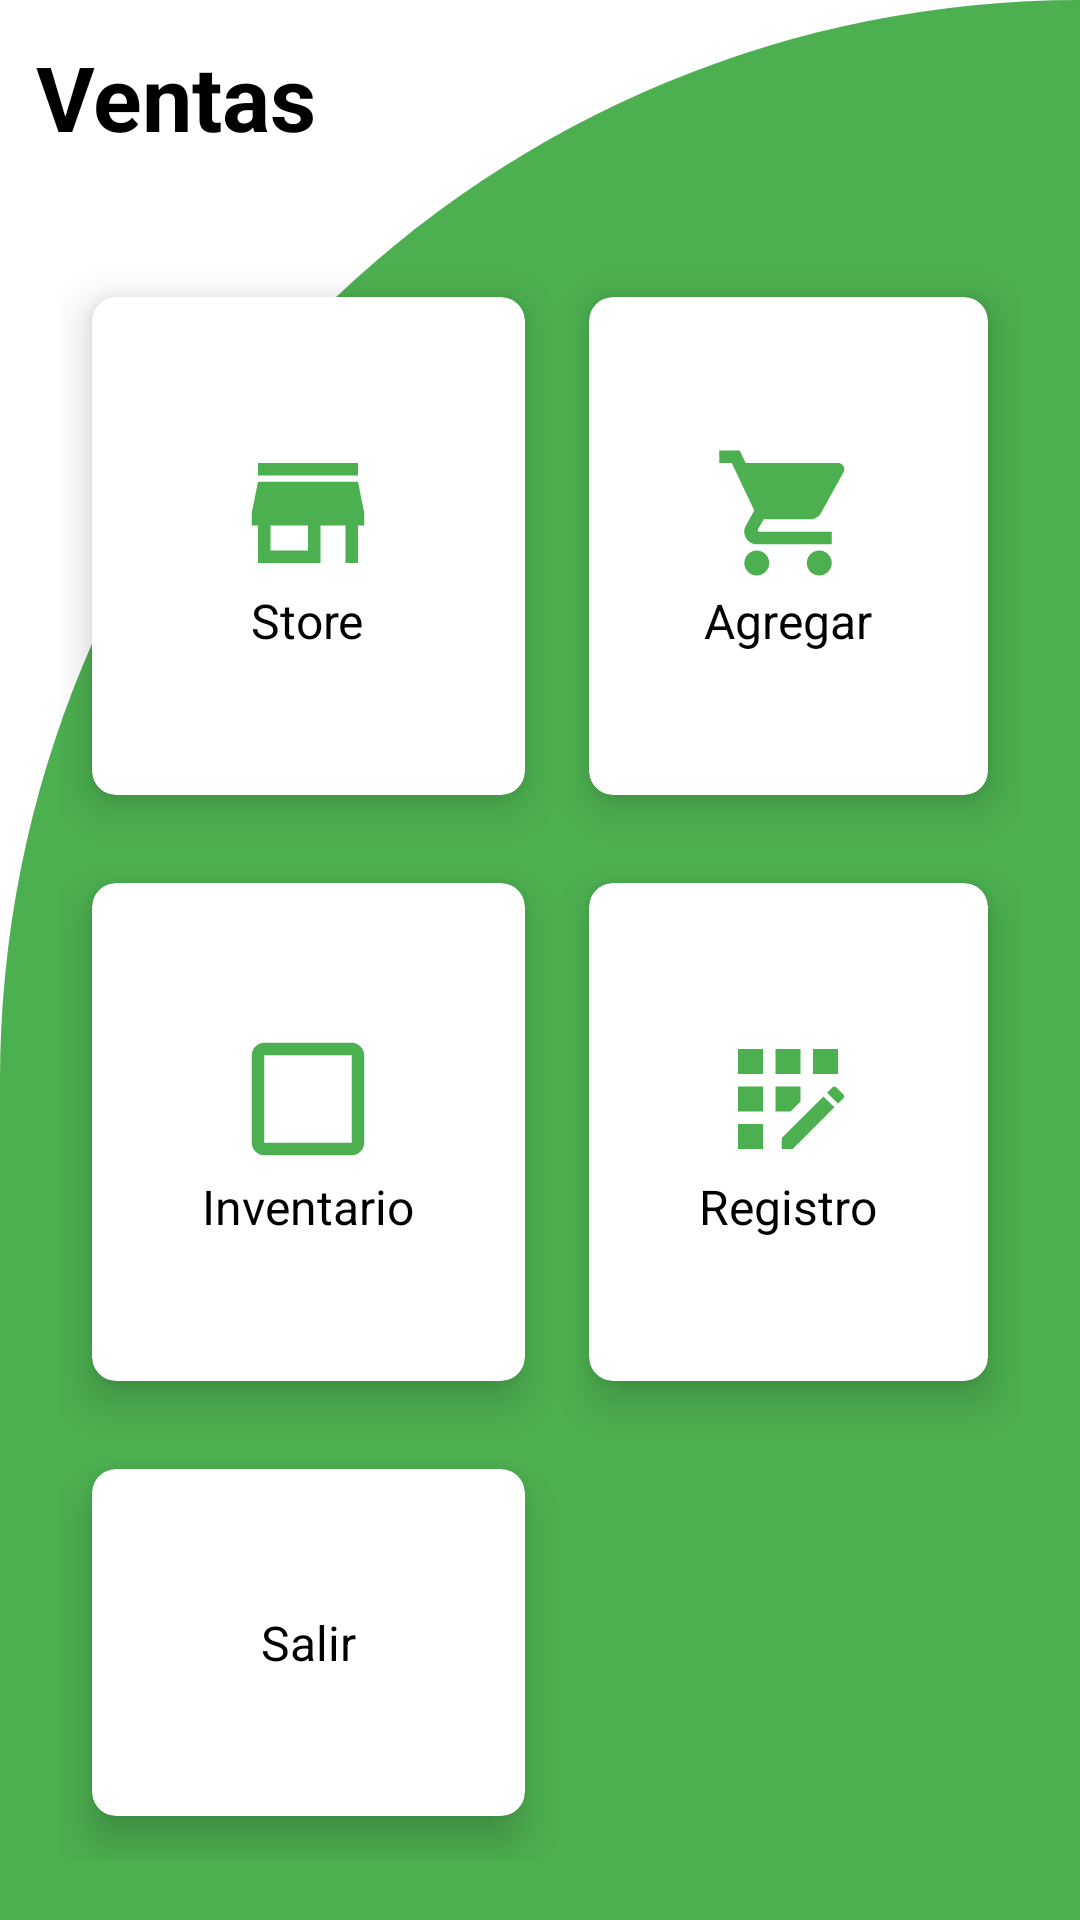

Icons on this 1080 x 1920 Android screen, each with the point to tap as (x=x, y=y):
shopping: (x=782, y=513)
